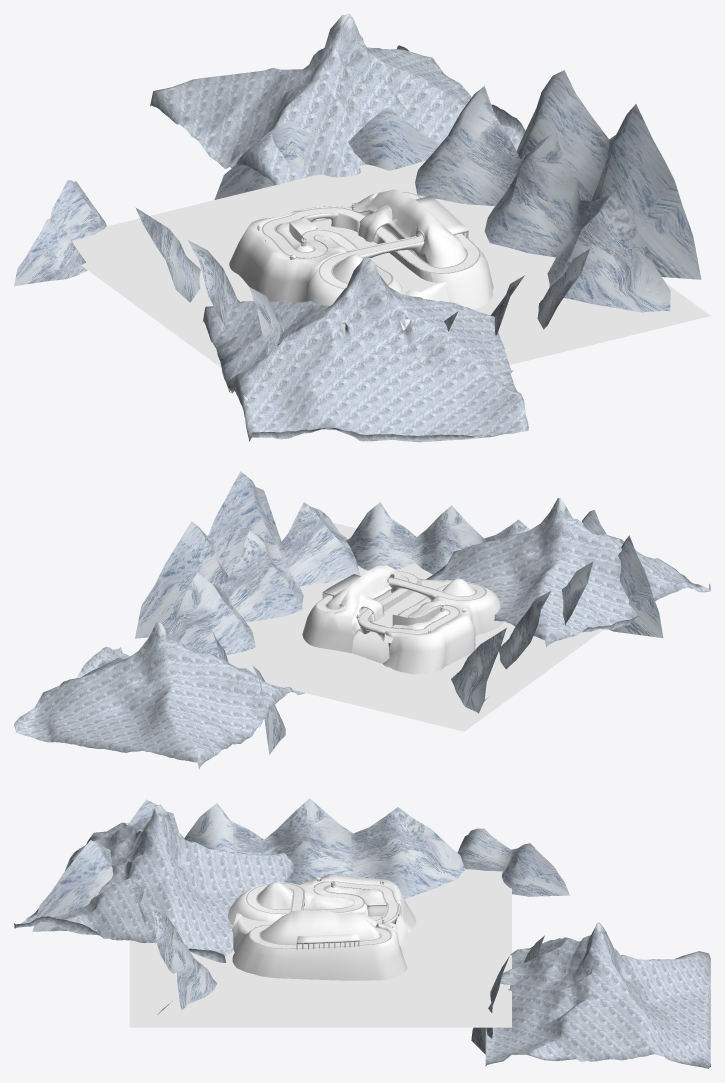
File: snowmountain_track.glb
3 views of the same model, one above another, from view 1: azimuth 30°, elevation 25°; view 2: azimuth 150°, elevation 25°; view 3: azimuth 270°, elevation 25° (orthographic). The views are drawn at different scales.
Parts seen in each view (by area): view 1: rockmountain.jpg__, concrete.png__, stk_generic_snow_a.png__, stktex_generic_roadSnow_a.png__, rockwall.jpg__, water_light.png__, roadwayborder.jpg__, snowyrock.png__; view 2: rockmountain.jpg__, concrete.png__, stk_generic_snow_a.png__, stktex_generic_roadSnow_a.png__, snowyrock.png__, rockwall.jpg__, roadwayborder.jpg__, water_light.png__; view 3: rockmountain.jpg__, concrete.png__, stk_generic_snow_a.png__, stktex_generic_roadSnow_a.png__, roadwayborder.jpg__, rockwall.jpg__.
Part boxes in pixels (x1=…): rockmountain.jpg__: x1=14, y1=14, x2=701, y2=442; concrete.png__: x1=72, y1=145, x2=710, y2=368; stk_generic_snow_a.png__: x1=229, y1=189, x2=493, y2=336; stktex_generic_roadSnow_a.png__: x1=263, y1=192, x2=478, y2=288; rockwall.jpg__: x1=291, y1=195, x2=468, y2=258; water_light.png__: x1=312, y1=220, x2=438, y2=294; roadwayborder.jpg__: x1=261, y1=191, x2=480, y2=288; snowyrock.png__: x1=311, y1=211, x2=432, y2=281; rockmountain.jpg__: x1=14, y1=471, x2=710, y2=769; concrete.png__: x1=218, y1=522, x2=603, y2=731; stk_generic_snow_a.png__: x1=302, y1=565, x2=504, y2=674; stktex_generic_roadSnow_a.png__: x1=317, y1=571, x2=485, y2=633; snowyrock.png__: x1=352, y1=579, x2=421, y2=663; rockwall.jpg__: x1=322, y1=574, x2=444, y2=641; roadwayborder.jpg__: x1=315, y1=570, x2=486, y2=634; water_light.png__: x1=366, y1=581, x2=445, y2=643; rockmountain.jpg__: x1=14, y1=798, x2=710, y2=1068; concrete.png__: x1=129, y1=869, x2=511, y2=1027; stk_generic_snow_a.png__: x1=228, y1=874, x2=416, y2=980; stktex_generic_roadSnow_a.png__: x1=247, y1=881, x2=397, y2=948; roadwayborder.jpg__: x1=246, y1=881, x2=398, y2=949; rockwall.jpg__: x1=290, y1=877, x2=399, y2=949.
Bounding box in the file's own units: 643 × 208 × 909.
19 materials, 4 textured.
